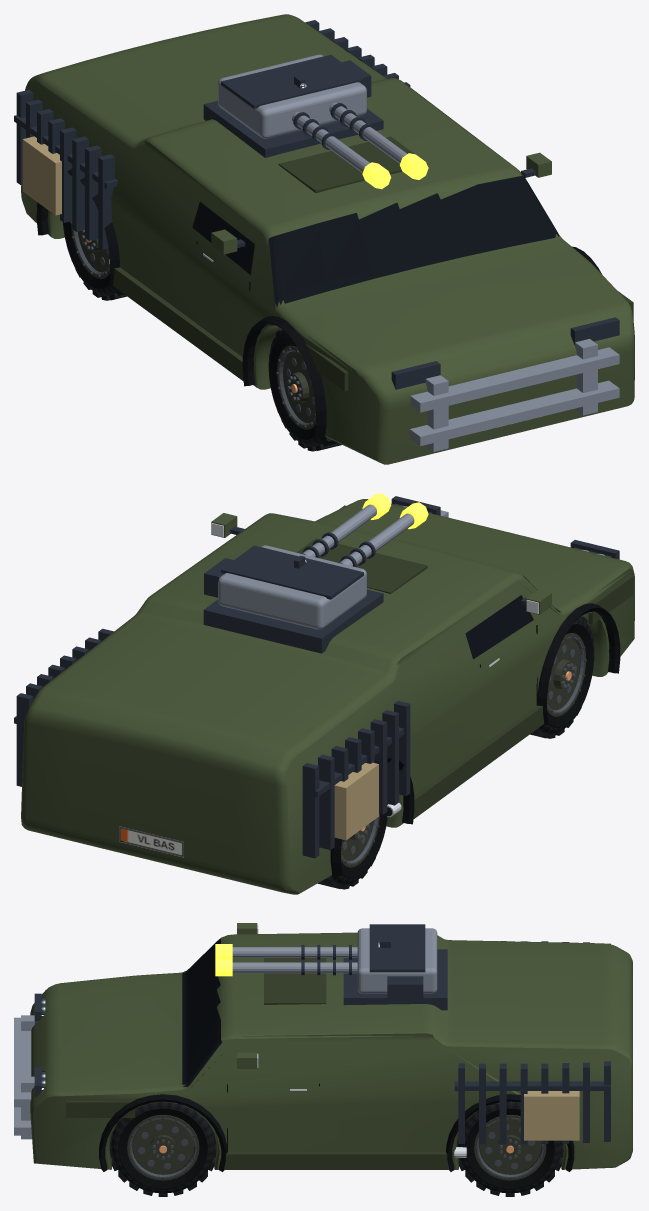
Rendered from bastion_m8.glb.
3 views of the same model, one above another, from view 1: azimuth 30°, elevation 25°; view 2: azimuth 150°, elevation 25°; view 3: azimuth 270°, elevation 25° (orthographic). The views are drawn at different scales.
Visible parts, largest first — view 1: chassis, gun, wheel_FR, wheel_RR; view 2: chassis, gun, wheel_FR, wheel_RR; view 3: chassis, gun, wheel_FL, wheel_RL.
Boxes of the visible parts, x1,y1,x2,y2 form: chassis: (14, 14, 634, 464); gun: (218, 54, 428, 189); wheel_FR: (268, 329, 341, 451); wheel_RR: (63, 221, 126, 300); chassis: (14, 496, 634, 894); gun: (204, 493, 428, 629); wheel_FR: (530, 616, 594, 738); wheel_RR: (317, 804, 387, 889); chassis: (14, 923, 632, 1171); gun: (215, 924, 437, 1002); wheel_FL: (109, 1101, 216, 1196); wheel_RL: (456, 1101, 563, 1196).
Size of the model in its own units: 2.64 by 1.84 by 5.13.
Materials: 18 (5 with a texture image).
